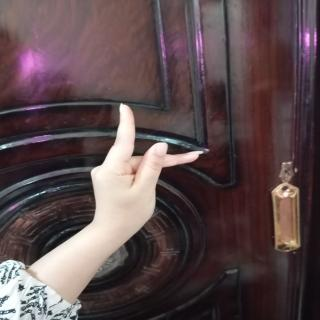DHAA: (82, 97, 205, 255)
